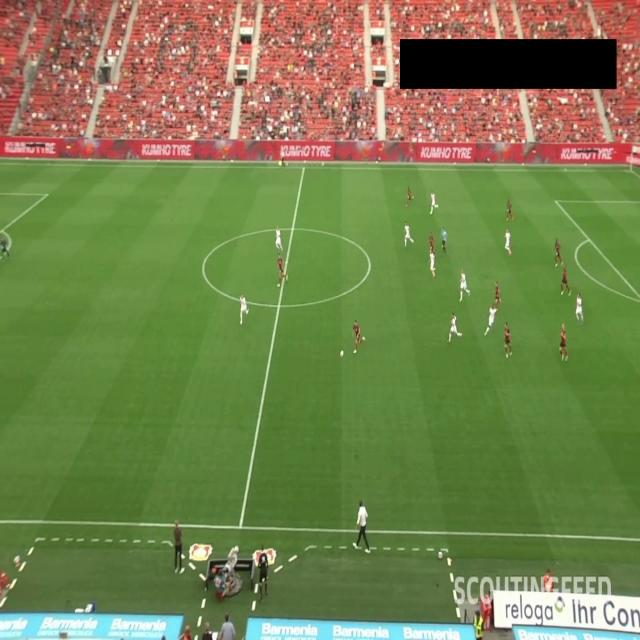ball: (338, 343, 346, 362)
player: (558, 320, 570, 364), (352, 317, 366, 354), (447, 309, 462, 340), (484, 304, 497, 338), (502, 322, 513, 356), (458, 267, 470, 298), (276, 254, 288, 284), (574, 289, 584, 325), (238, 292, 250, 321), (560, 264, 570, 296), (504, 196, 515, 224), (0, 234, 11, 260), (554, 237, 563, 268), (275, 227, 284, 256), (403, 222, 413, 248), (493, 280, 501, 307), (430, 190, 438, 215), (504, 227, 511, 255), (405, 184, 413, 207), (429, 246, 435, 276), (428, 232, 434, 253)
